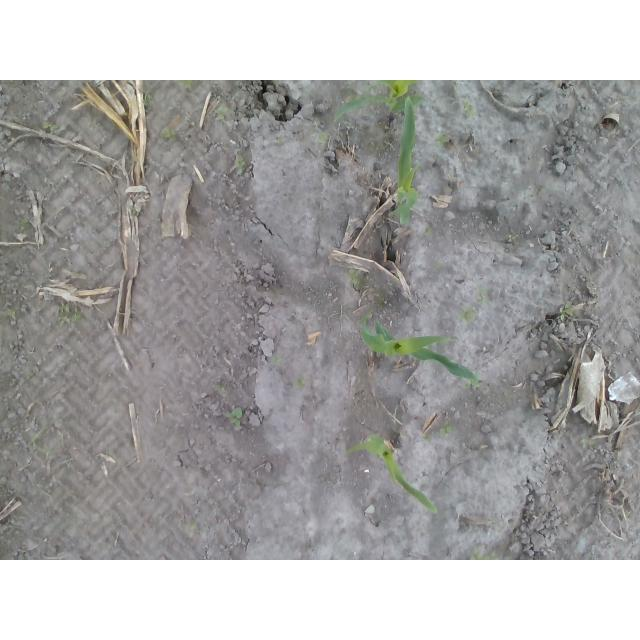Maize: (360, 310, 480, 382), (347, 435, 438, 514), (390, 97, 421, 224), (333, 81, 422, 124)
Weeds: (57, 303, 86, 326), (31, 430, 51, 454), (469, 548, 499, 561), (224, 407, 242, 426), (159, 126, 178, 142), (459, 308, 476, 325), (475, 285, 489, 305), (433, 130, 450, 146), (560, 302, 573, 322), (347, 268, 362, 285), (461, 100, 476, 117), (235, 154, 246, 175), (465, 371, 479, 387), (440, 421, 454, 436), (215, 106, 229, 120), (177, 81, 194, 92), (42, 121, 58, 132), (313, 132, 327, 144), (294, 375, 305, 389), (582, 438, 597, 448), (6, 307, 17, 319), (142, 94, 152, 106), (216, 385, 229, 394), (271, 355, 282, 365), (19, 219, 29, 230), (184, 524, 196, 531), (347, 122, 355, 131), (508, 235, 517, 242), (131, 206, 138, 215), (422, 435, 432, 441), (434, 263, 442, 270), (276, 137, 285, 143), (425, 226, 431, 234), (499, 439, 505, 445)
